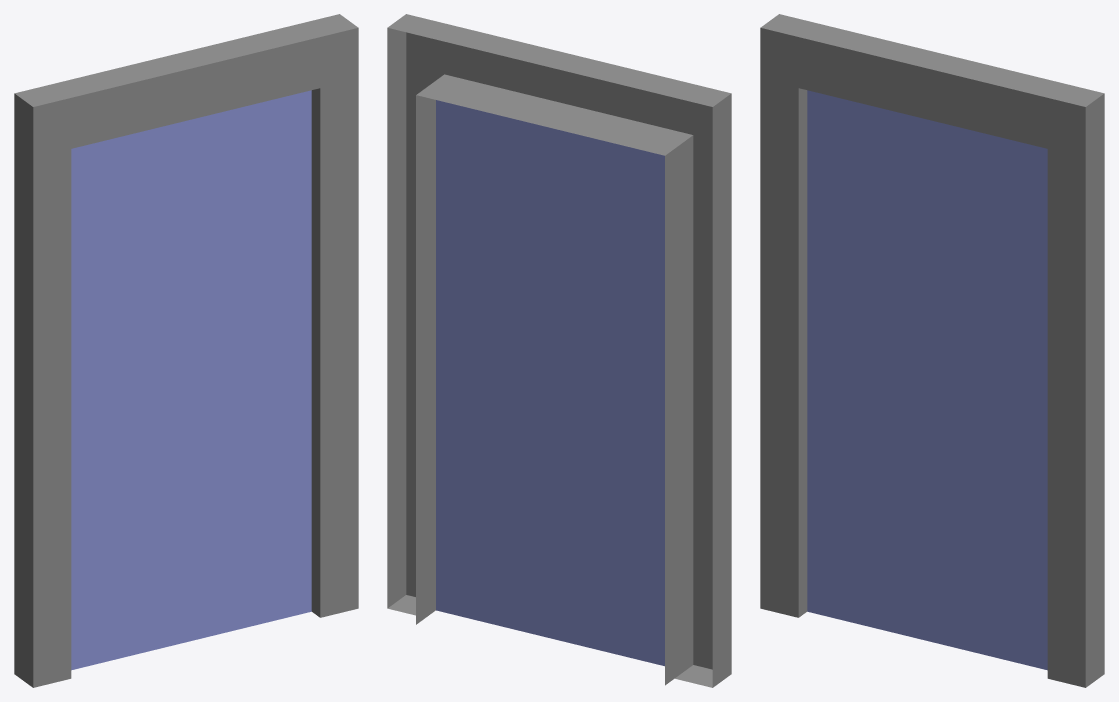
The model's file is Door1.FBX.
3 views of the same model, side by side, from view 1: azimuth 30°, elevation 25°; view 2: azimuth 150°, elevation 25°; view 3: azimuth 330°, elevation 25° (orthographic).
Parts seen in each view (by area): view 1: Plane197; view 2: Plane197; view 3: Plane197.
Boxes of the visible parts, x1,y1,x2,y2 form: Plane197: (14,14,358,687); Plane197: (387,14,731,687); Plane197: (760,14,1104,687).
Bounding box in the file's own units: 100 × 171 × 15.06.
